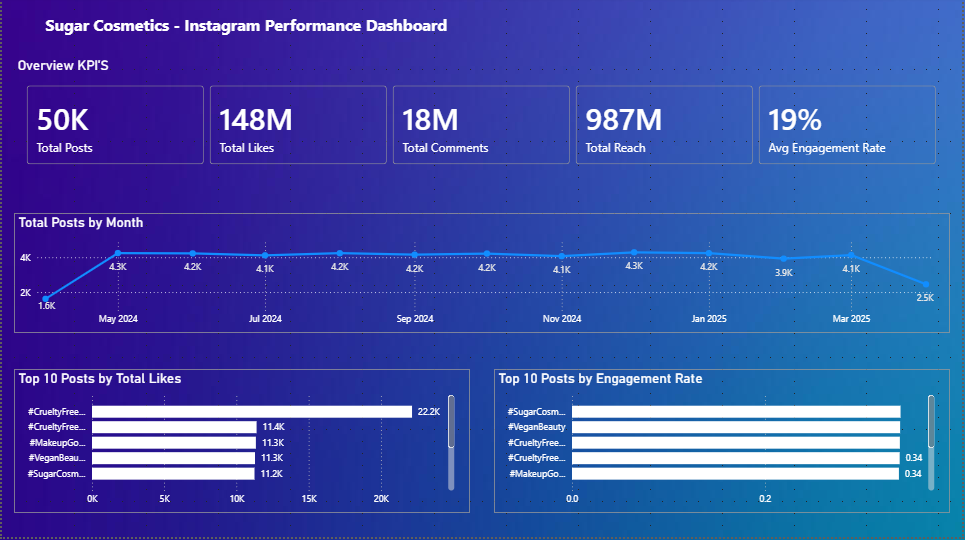

What the dashboard file says about the page in this screenshot:
{"tool":"powerbi","page":{"name":"Page 1","canvas":[1280,720],"ordinal":0},"visuals":[{"type":"textbox","box":[0,0,1280,80],"z":0},{"type":"cardVisual","title":"Overview KPI''S","fields":{"Data":["Sum(public fact_kpi_overview.total_posts)","Sum(public fact_kpi_overview.total_likes)","Sum(public fact_kpi_overview.total_comments)","Sum(public fact_kpi_overview.total_reach)","Avg(public fact_kpi_overview.avg_engagement_rate)"]},"box":[16,80,1248,160],"z":1000},{"type":"lineChart","title":"Total Posts by Month","fields":{"Y":["Sum(public fact_monthly_posting_trend.total_posts)"],"Category":["public fact_monthly_posting_trend.month"]},"box":[16,288,1248,160],"z":2000},{"type":"clusteredBarChart","title":"Top 10 Posts by Engagement Rate","fields":{"Y":["Avg(public fact_top_10_posts_ranked_by_post_engagement_rate.post_engagement_rate)"],"Category":["public fact_top_10_posts_ranked_by_post_engagement_rate.hashtags"]},"box":[656,496,608,192],"z":3000},{"type":"clusteredBarChart","title":"Top 10 Posts by Total Likes","fields":{"Y":["Sum(public fact_top_10_posts_ranked_by_likes.likes)"],"Category":["public fact_top_10_posts_ranked_by_likes.hashtags"]},"box":[16,496,608,192],"z":4000}]}

Visuals, with their boxes in screenshot pixels (x1, y1, x2, y2), scaled from the page's 1280x720 canvas onto the 965x540 screenshot:
textbox: Rect(0, 0, 964, 60)
"Overview KPI''S" cardVisual: Rect(12, 60, 953, 180)
"Total Posts by Month" lineChart: Rect(12, 216, 953, 336)
"Top 10 Posts by Engagement Rate" clusteredBarChart: Rect(495, 372, 953, 516)
"Top 10 Posts by Total Likes" clusteredBarChart: Rect(12, 372, 470, 516)
